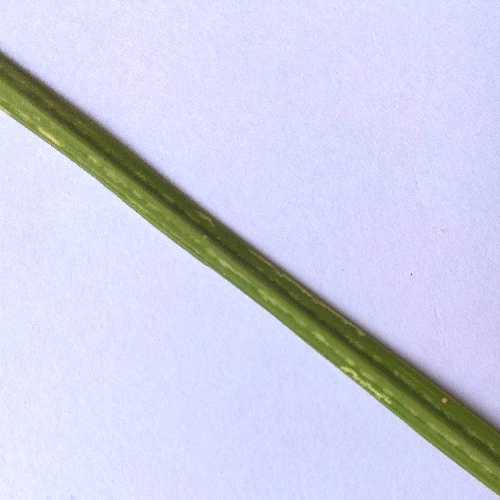Busuk Leher: (343, 362, 393, 412), (32, 121, 64, 150), (437, 387, 454, 410)
